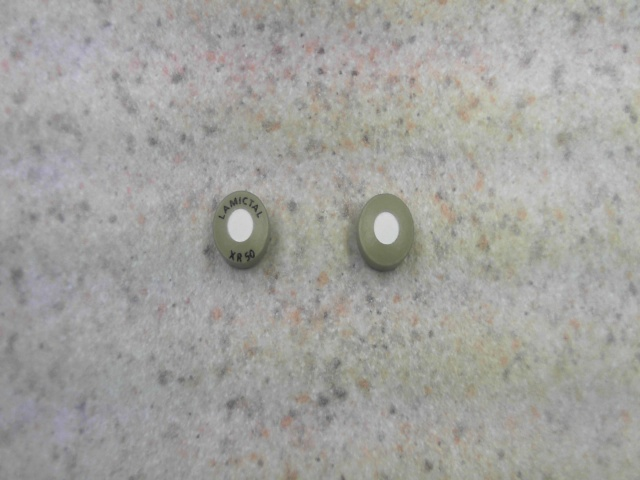L: (214, 213, 227, 222)
R: (235, 252, 245, 265)
X: (226, 249, 236, 263)
